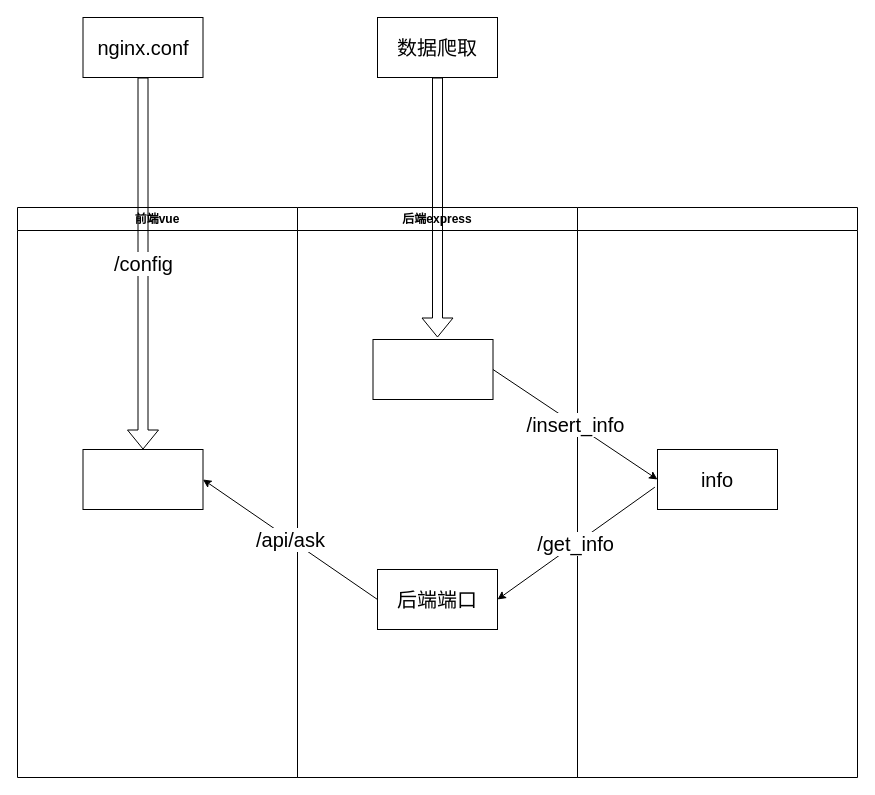
Some shapes in this 875 by 795 pixel diagram are drawn without their labels. Here are the shapes that lost their labels. From the top down, the box of each, then its label:
(372, 338, 493, 400): data.json
(82, 448, 203, 510): 问答交互页面
(576, 206, 858, 778): 云储存tidb
